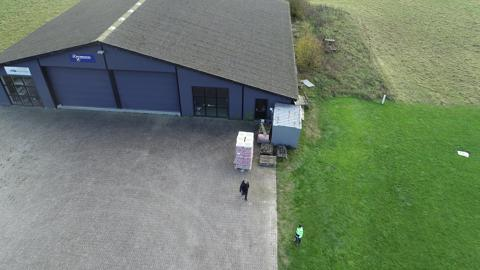RockwoolPallet: (232, 131, 254, 170)
